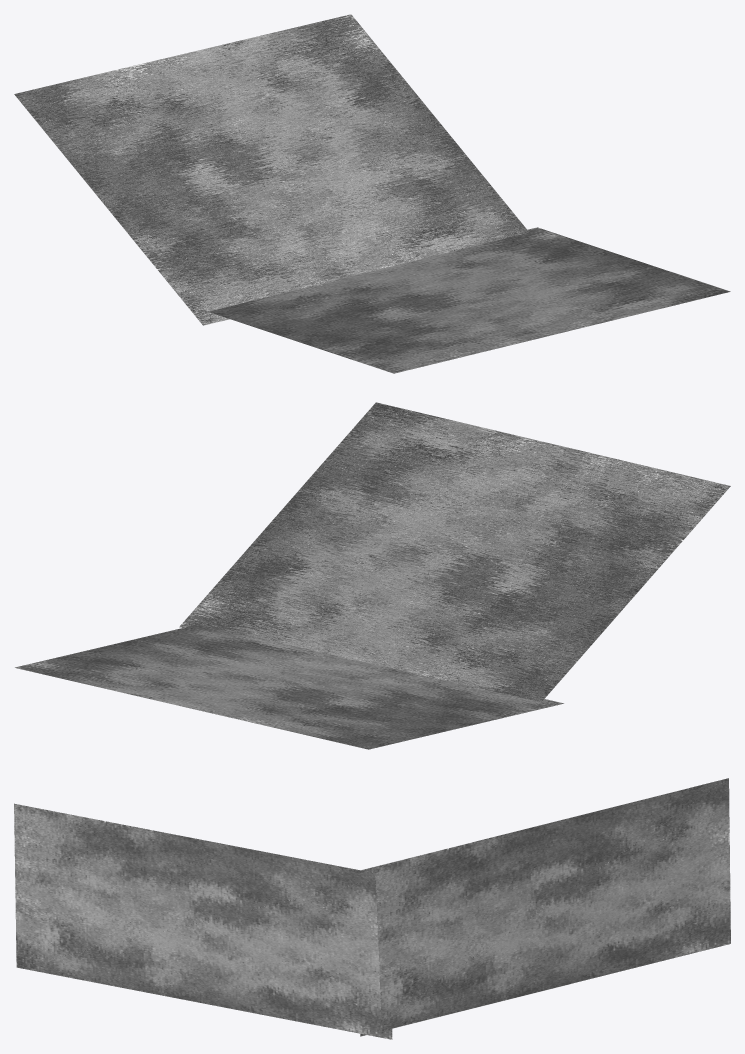
File: w_waterway_drain_intermittent.glb
The picture shows the model from 3 angles, top to bottom: view 1: azimuth 30°, elevation 25°; view 2: azimuth 150°, elevation 25°; view 3: azimuth 270°, elevation 25°; orthographic projection. The views are drawn at different scales.
Parts seen in each view (by area): view 1: Plane.001, Plane; view 2: Plane, Plane.001; view 3: Plane, Plane.001.
Part boxes in pixels (<box>): Plane.001: <box>14,14,528,325</box>; Plane: <box>208,227,730,373</box>; Plane: <box>179,402,730,702</box>; Plane.001: <box>15,624,563,749</box>; Plane: <box>14,803,392,1039</box>; Plane.001: <box>360,778,730,1036</box>.
Bounding box in the file's own units: 0.3428 × 0.0898 × 0.6092.
Materials: 2 (2 with a texture image).
